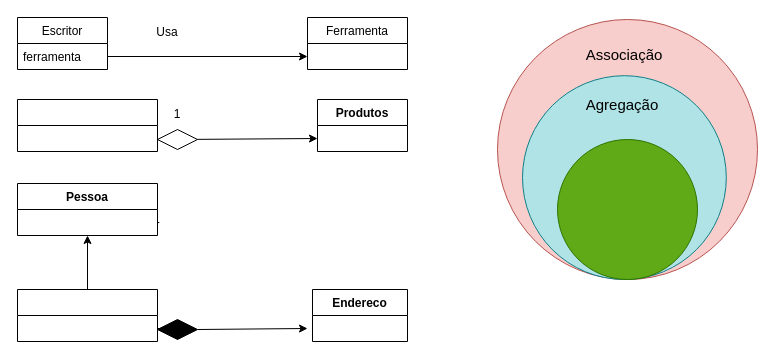
Some shapes in this 775 by 359 pixel diagram are drawn without their labels. Here are the shapes that lost their labels. From the top down, the centre of each, then its label:
At point 87,125: "CarrinhoDeCompras".
At point 627,209: "Composição".
At point 87,315: "Cliente".
